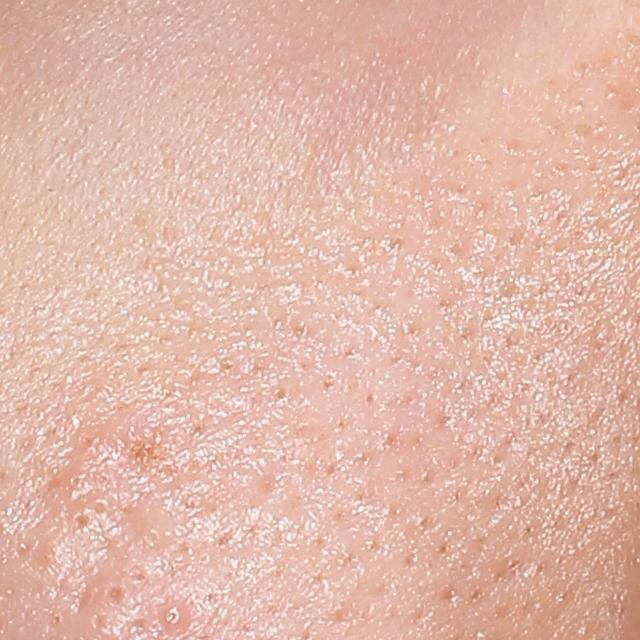comedo: (157, 601, 194, 634), (102, 579, 134, 607)
